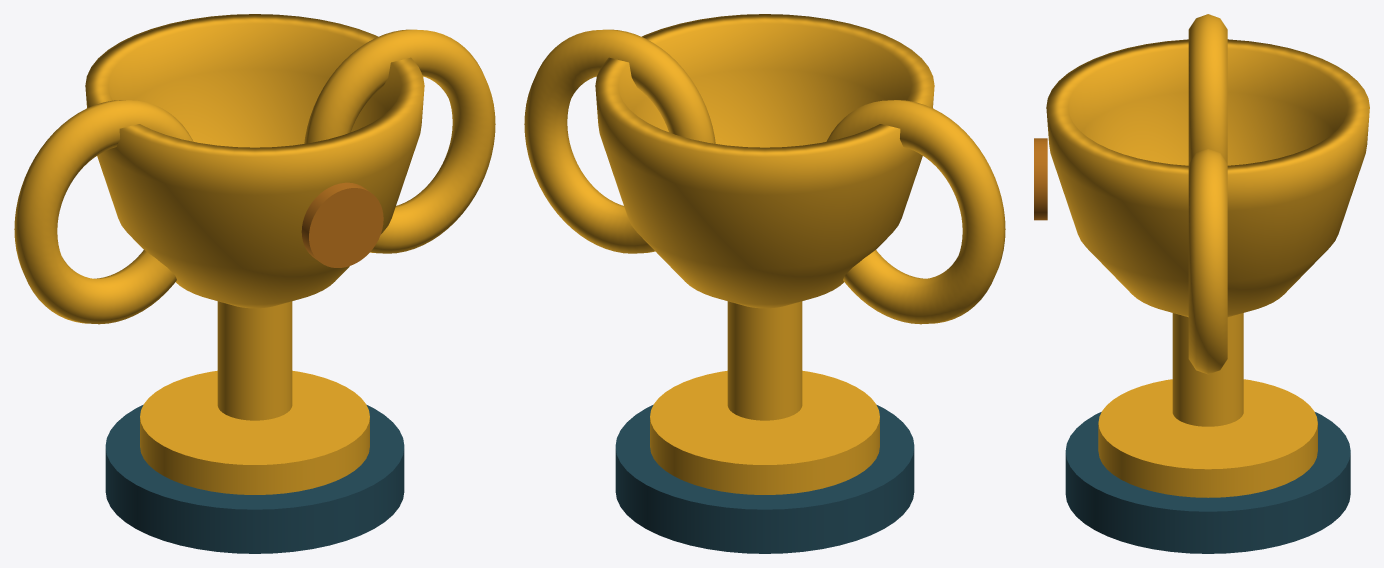
File: trophy.glb
The picture shows the model from 3 angles, left to right: view 1: azimuth 30°, elevation 25°; view 2: azimuth 150°, elevation 25°; view 3: azimuth 270°, elevation 25°; orthographic projection. The views are drawn at different scales.
Parts seen in each view (by area): view 1: trophy_cup_184, trophy; view 2: trophy_cup_184, trophy; view 3: trophy_cup_184, trophy.
Part boxes in pixels (x1,y1,x2,y2): trophy_cup_184: (14,14,495,420); trophy: (105,370,404,553); trophy_cup_184: (524,14,1005,420); trophy: (615,370,914,553); trophy_cup_184: (1034,14,1369,426); trophy: (1065,379,1350,553).
Bounding box in the file's own units: 1.91 × 1.63 × 1.22.
